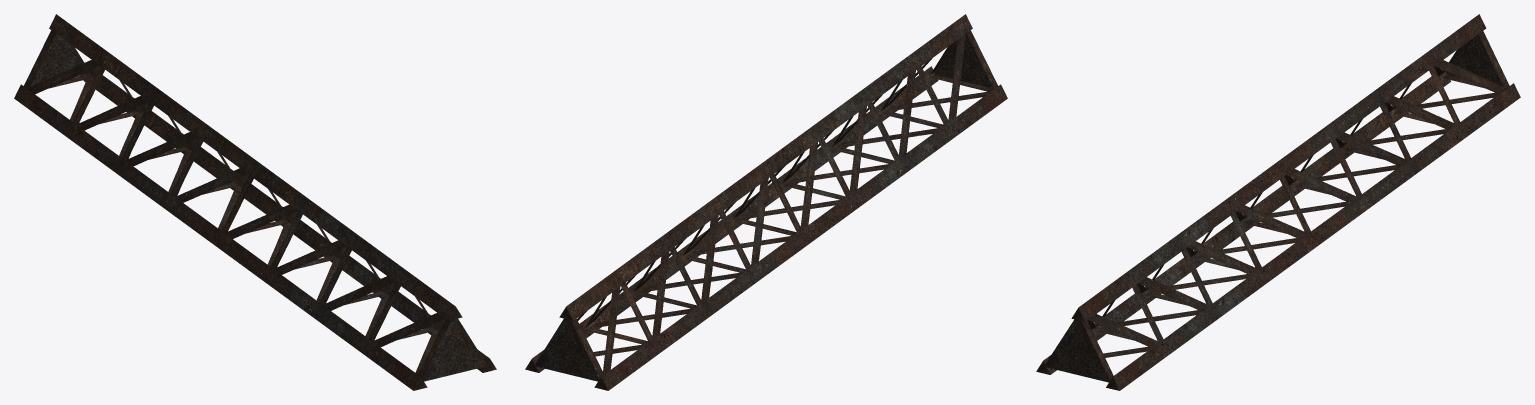
The model's file is scaffold_tri.fbx.
The picture shows the model from 3 angles, left to right: view 1: azimuth 30°, elevation 25°; view 2: azimuth 150°, elevation 25°; view 3: azimuth 330°, elevation 25°; orthographic projection.
Visible parts, largest first — view 1: scaffold_tri; view 2: scaffold_tri; view 3: scaffold_tri.
Part boxes in pixels (left/top/right/bottom): scaffold_tri: left=14, top=14, right=496, bottom=390; scaffold_tri: left=525, top=14, right=1007, bottom=390; scaffold_tri: left=1036, top=14, right=1520, bottom=390.
Size of the model in its own units: 79.39 by 67.52 by 659.
